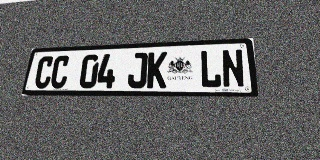0: (78, 54, 100, 88)
4: (96, 54, 117, 88)
C: (49, 55, 71, 88), (33, 56, 55, 88)
J: (127, 52, 148, 88)
K: (146, 52, 167, 88)
L: (200, 50, 222, 88)
N: (221, 49, 245, 88)
